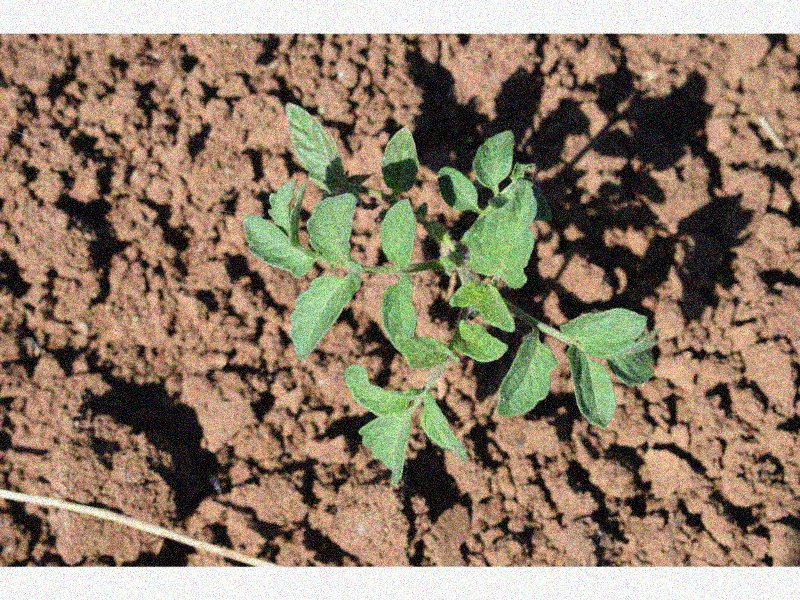tomato: (241, 101, 657, 486)
